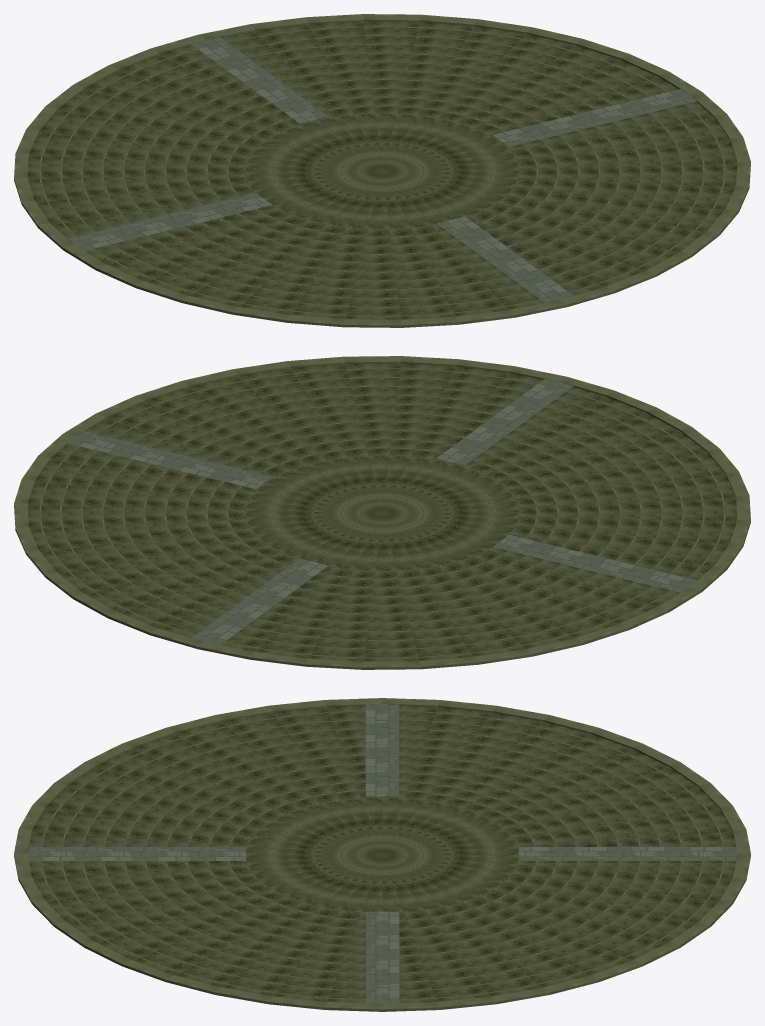
File: village_large_base.glb
3 views of the same model, one above another, from view 1: azimuth 30°, elevation 25°; view 2: azimuth 150°, elevation 25°; view 3: azimuth 270°, elevation 25° (orthographic).
Parts seen in each view (by area): view 1: ae_jungle_village_large_base; view 2: ae_jungle_village_large_base; view 3: ae_jungle_village_large_base.
Boxes of the visible parts, x1,y1,x2,y2 form: ae_jungle_village_large_base: (14, 14, 750, 327); ae_jungle_village_large_base: (14, 356, 750, 669); ae_jungle_village_large_base: (14, 698, 750, 1011).
Bounding box in the file's own units: 1.64 × 0.00599 × 1.64.
Materials: 1 (1 with a texture image).
